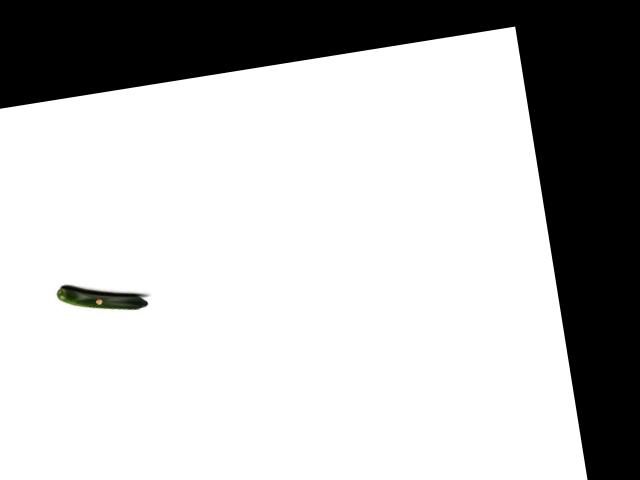cucumber: (55, 274, 148, 321)
